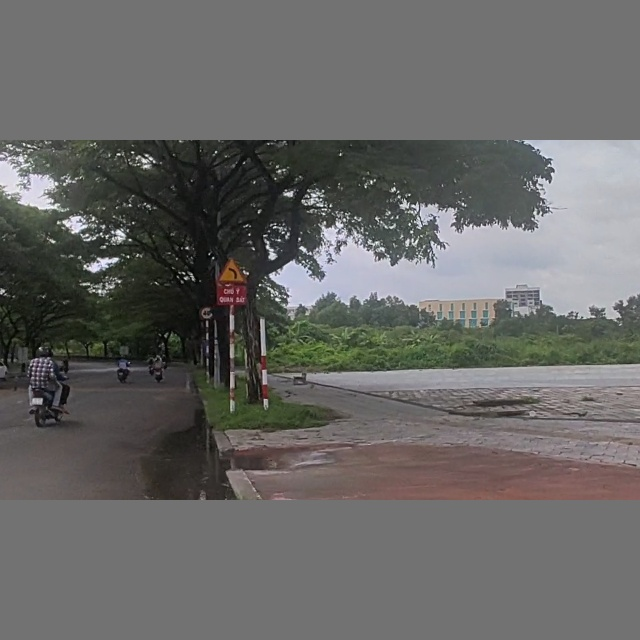P.127*40: (198, 303, 215, 320)
W.201a: (214, 257, 251, 283)
